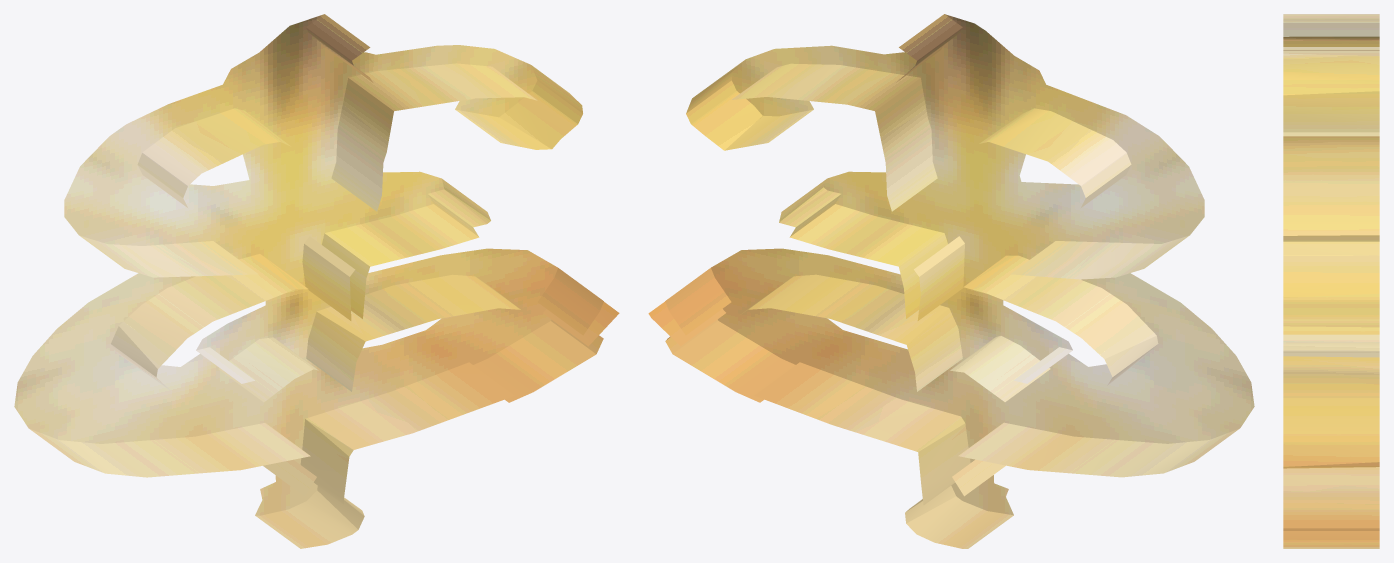
The model's file is ps2_save-icons_buffythevampireslayer.glb.
3 renders of one model, left to right at view 1: azimuth 30°, elevation 25°; view 2: azimuth 150°, elevation 25°; view 3: azimuth 270°, elevation 25°, orthographic. The views are drawn at different scales.
Visible parts, largest first — view 1: icon.ico; view 2: icon.ico; view 3: icon.ico.
Part boxes in pixels (box(x1,y1,x2,y2)): icon.ico: box(14, 14, 619, 548); icon.ico: box(648, 14, 1254, 548); icon.ico: box(1283, 14, 1379, 548).
Bounding box in the file's own units: 5 × 4.15 × 0.707.
1 material, 1 textured.
